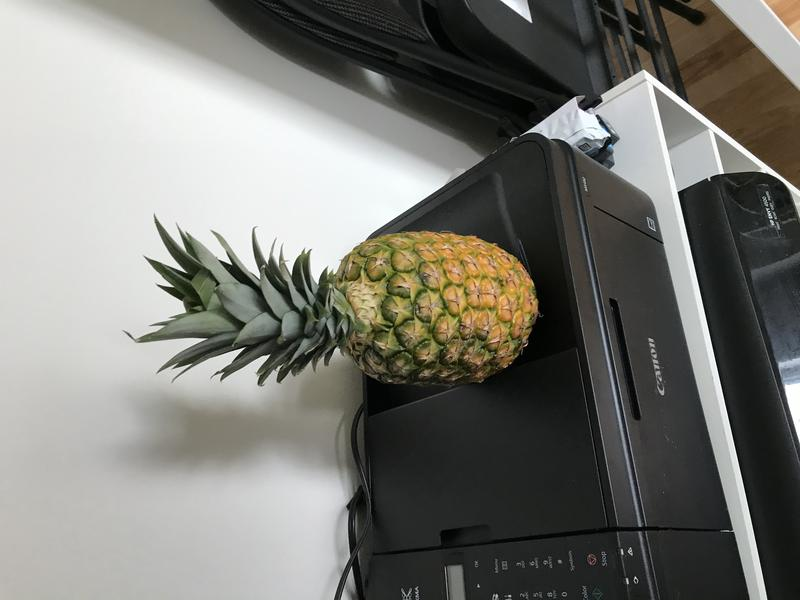pineapple: (120, 205, 546, 395)
